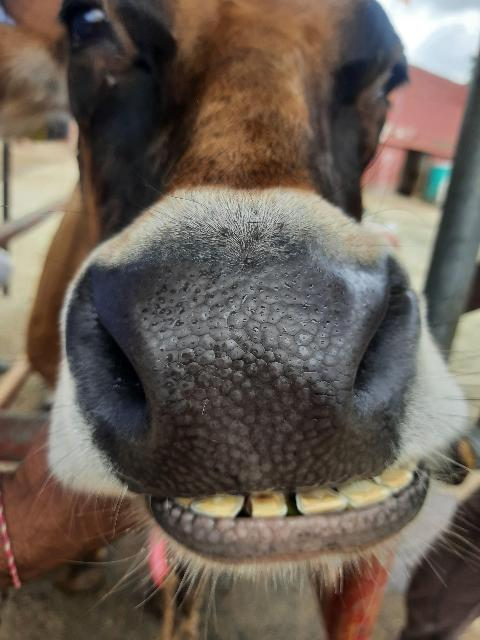Muzzle: (134, 264, 374, 481)
